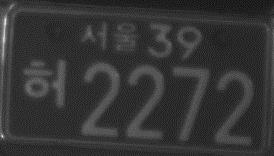2: (212, 70, 257, 146), (124, 62, 167, 141), (79, 61, 122, 139)
3: (145, 19, 173, 58)
7: (169, 64, 211, 144)
9: (175, 24, 204, 59)
서울_O: (79, 20, 142, 53)
허: (22, 58, 68, 108)
